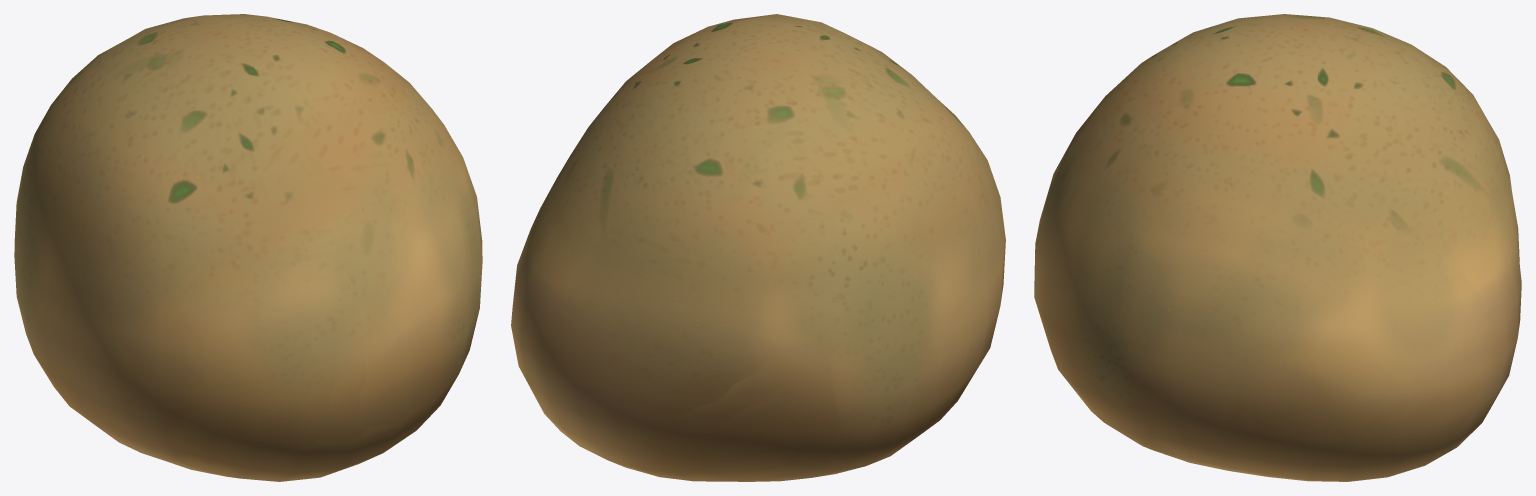
Rendered from GarlicWyrm_BodyPiece.fbx.
3 renders of one model, left to right at view 1: azimuth 30°, elevation 25°; view 2: azimuth 150°, elevation 25°; view 3: azimuth 270°, elevation 25°, orthographic.
Visible parts, largest first — view 1: Cube.001; view 2: Cube.001; view 3: Cube.001.
Boxes of the visible parts, x1,y1,x2,y2 form: Cube.001: (14,14,482,481); Cube.001: (511,14,1005,481); Cube.001: (1034,14,1521,481).
Size of the model in its own units: 724 by 713 by 771.
